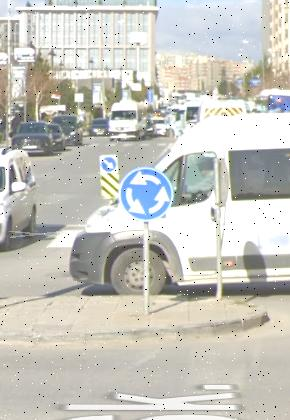crossroads: (122, 169, 170, 216)
